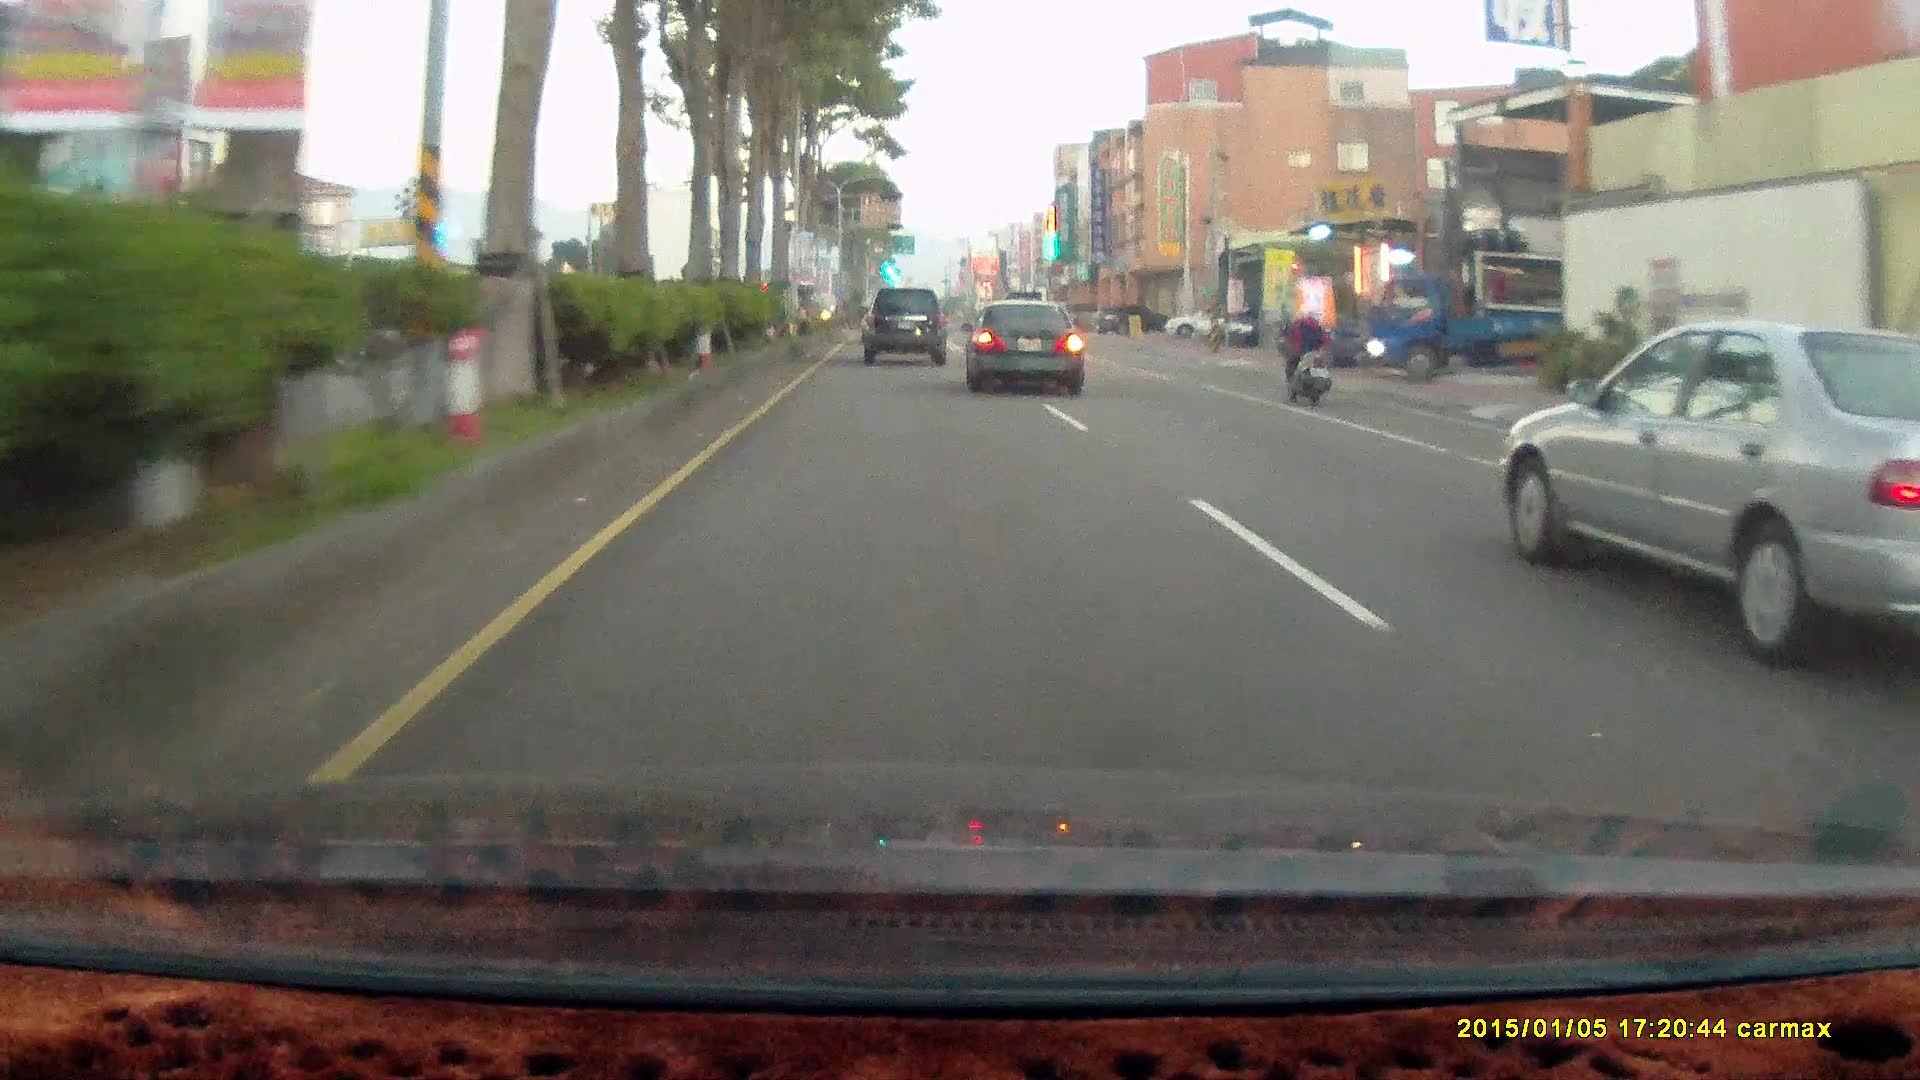rider: (1271, 296, 1341, 416), (1279, 293, 1337, 399)
vehicle: (1493, 316, 1920, 665), (1366, 272, 1601, 382), (1368, 257, 1565, 380), (957, 295, 1082, 393), (972, 295, 1093, 386), (861, 281, 952, 357), (860, 286, 947, 365), (1164, 304, 1242, 337), (1097, 303, 1166, 335)
